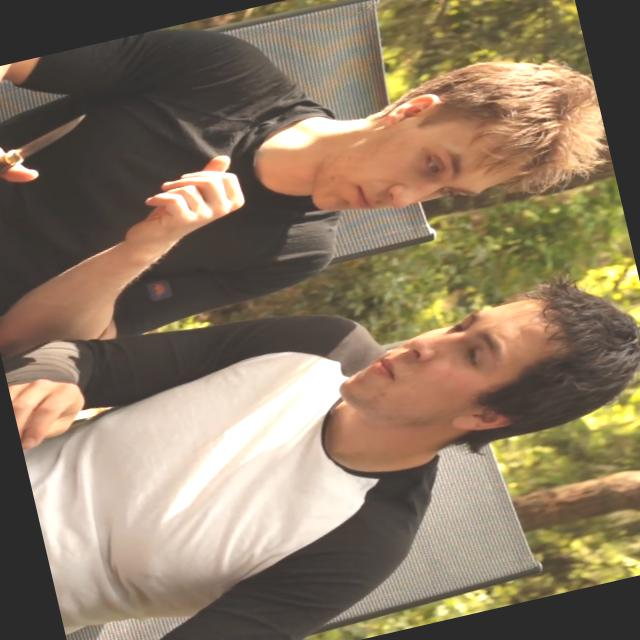knife: (0, 101, 116, 203)
